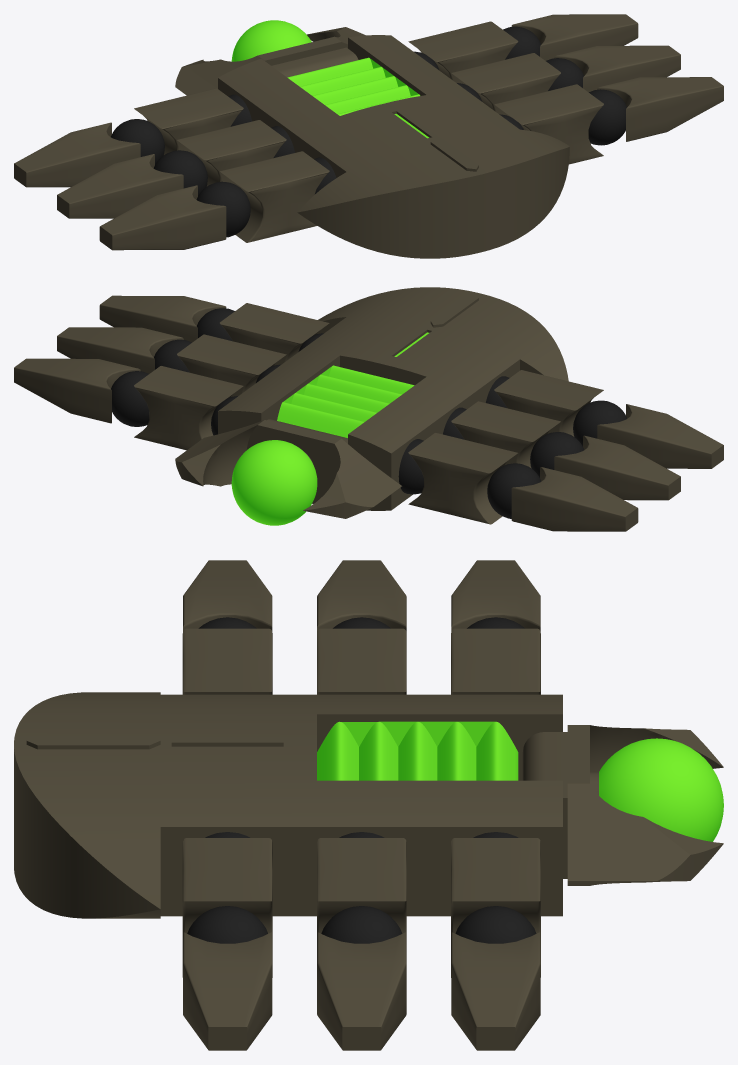
Rendered from Scarab.fbx.
The picture shows the model from 3 angles, top to bottom: view 1: azimuth 30°, elevation 25°; view 2: azimuth 150°, elevation 25°; view 3: azimuth 270°, elevation 25°; orthographic projection. The views are drawn at different scales.
Visible parts, largest first — view 1: ScarabBody1, ScarabBody2, Link_DistalLegL1, LinkProximalLegL1, Link_DistalLegR1.001, Link_DistalLegL3, Link_DistalLegL2, LinkProximalLegR1.001, Link_DistalLegR3, Link_DistalLegR2, LinkProximalLegL3, LinkProximalLegL2 (+8 smaller); view 2: ScarabBody1, ScarabBody2, LinkProximalLegL3, Link_DistalLegL3, LinkProximalLegR3, Link_DistalLegR3, Link_DistalLegL2, Link_DistalLegL1, Link_DistalLegR1.001, Link_DistalLegR2, LinkProximalLegL2, LinkProximalLegL1 (+9 smaller); view 3: ScarabBody1, ScarabBody2, Link_DistalLegR3, Link_DistalLegR2, Link_DistalLegR1.001, LinkProximalLegR1.001, LinkProximalLegR3, LinkProximalLegR2, LinkProximalLegL1, LinkProximalLegL2, LinkProximalLegL3, Link_DistalLegL1 (+5 smaller).
Part boxes in pixels (x1,y1,x2,y2): ScarabBody1: (218, 35, 569, 258); ScarabBody2: (175, 20, 365, 95); Link_DistalLegL1: (99, 185, 226, 250); LinkProximalLegL1: (220, 151, 329, 242); Link_DistalLegR1.001: (597, 77, 723, 141); Link_DistalLegL3: (14, 122, 140, 187); Link_DistalLegL2: (57, 154, 183, 218); LinkProximalLegR1.001: (494, 84, 603, 164); Link_DistalLegR3: (511, 14, 638, 60); Link_DistalLegR2: (554, 45, 680, 92); LinkProximalLegL3: (134, 88, 243, 154); LinkProximalLegL2: (177, 120, 286, 186); ScarabBody1: (218, 287, 568, 510); ScarabBody2: (175, 419, 401, 525); LinkProximalLegL3: (408, 433, 517, 524); Link_DistalLegL3: (511, 467, 638, 531); LinkProximalLegR3: (134, 366, 243, 450); Link_DistalLegR3: (14, 358, 140, 423); Link_DistalLegL2: (554, 435, 680, 500); Link_DistalLegL1: (597, 404, 723, 468); Link_DistalLegR1.001: (99, 295, 226, 342); Link_DistalLegR2: (57, 327, 183, 373); LinkProximalLegL2: (451, 401, 560, 468); LinkProximalLegL1: (494, 370, 603, 436); ScarabBody1: (14, 692, 562, 918); ScarabBody2: (522, 725, 723, 885); Link_DistalLegR3: (451, 932, 540, 1050); Link_DistalLegR2: (317, 932, 406, 1050); Link_DistalLegR1.001: (183, 932, 272, 1050); LinkProximalLegR1.001: (182, 838, 272, 977); LinkProximalLegR3: (451, 838, 540, 977); LinkProximalLegR2: (317, 838, 406, 933); LinkProximalLegL1: (182, 628, 272, 694); LinkProximalLegL2: (317, 628, 406, 694); LinkProximalLegL3: (451, 628, 540, 694); Link_DistalLegL1: (183, 560, 272, 631).
Bounding box in the file's own units: 2469 × 1588 × 310.
